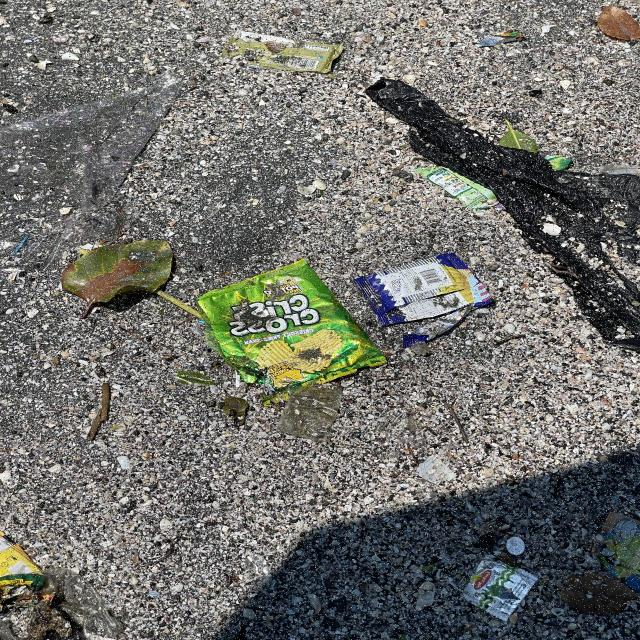plastic_waste: (199, 258, 393, 392), (354, 253, 496, 326), (212, 33, 342, 73), (463, 557, 541, 622), (416, 167, 503, 216), (595, 515, 640, 601), (1, 536, 45, 590)
